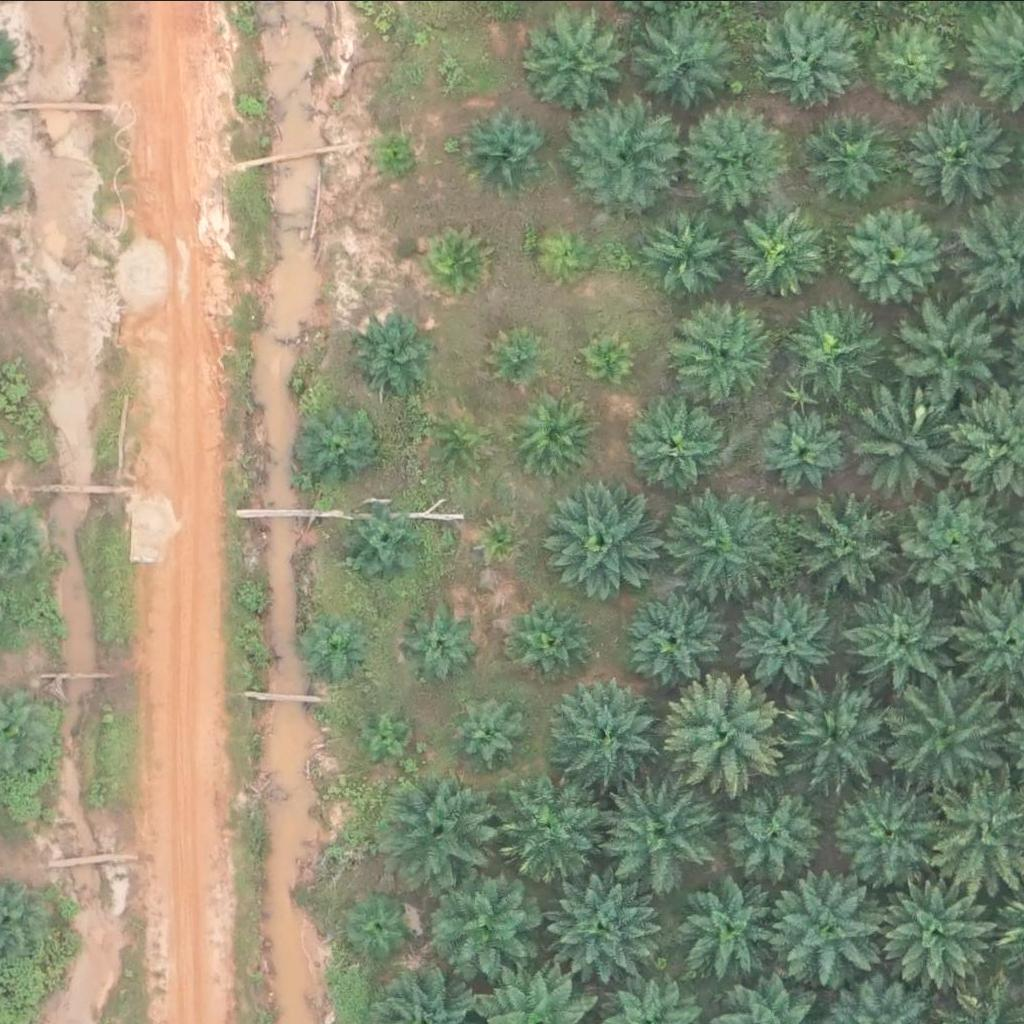Kelapa_Sawit: (542, 482, 656, 595), (847, 591, 961, 704), (667, 681, 781, 794), (547, 870, 661, 983), (896, 300, 1009, 413), (502, 768, 615, 881), (385, 776, 498, 889), (839, 779, 952, 892), (430, 870, 543, 983), (565, 103, 679, 215), (607, 778, 721, 890), (768, 876, 882, 988), (897, 491, 1010, 603), (676, 483, 789, 595), (890, 684, 1003, 796), (782, 679, 895, 791), (550, 673, 663, 785), (669, 868, 782, 980), (874, 872, 987, 984), (533, 8, 634, 108), (907, 107, 1008, 207), (690, 110, 791, 210), (839, 204, 940, 304), (859, 395, 960, 495), (623, 587, 724, 687), (640, 7, 740, 107), (760, 14, 860, 114), (728, 203, 828, 303), (785, 302, 885, 402), (677, 306, 777, 406), (625, 395, 725, 495), (793, 498, 893, 598), (738, 591, 838, 691), (718, 781, 818, 881), (462, 107, 550, 195), (809, 114, 897, 202), (643, 209, 731, 297), (339, 501, 427, 589), (762, 406, 850, 494), (506, 595, 594, 683), (871, 18, 959, 105), (295, 401, 383, 488), (510, 392, 598, 479), (363, 317, 439, 392), (405, 608, 481, 683), (302, 618, 365, 681), (350, 896, 413, 959), (423, 229, 486, 292), (457, 698, 520, 760), (429, 407, 492, 469), (542, 232, 593, 282), (585, 330, 635, 380), (493, 335, 543, 385), (362, 708, 412, 758), (377, 139, 415, 176), (478, 524, 515, 561), (440, 62, 466, 87)
